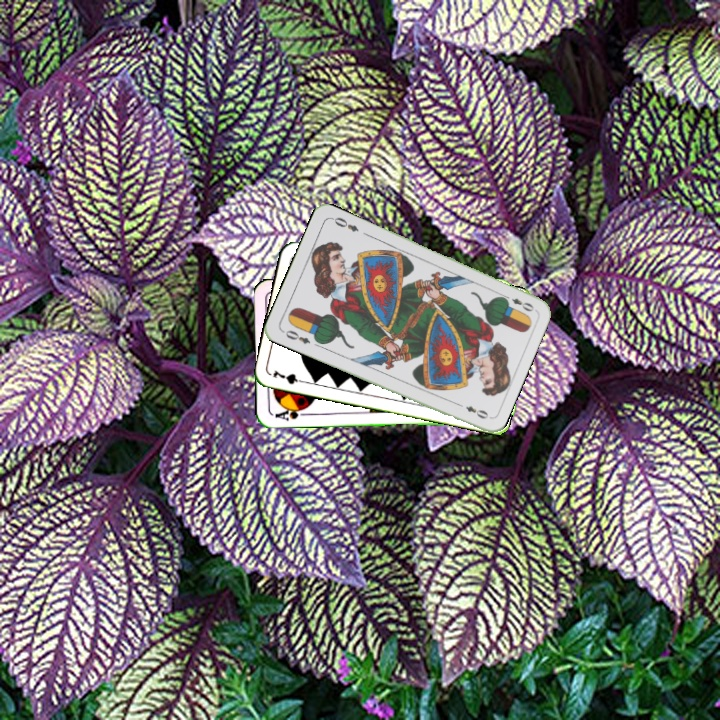EO: (498, 291, 537, 314), (278, 326, 313, 347)
G7: (269, 366, 309, 387)
SA: (271, 403, 311, 423)
